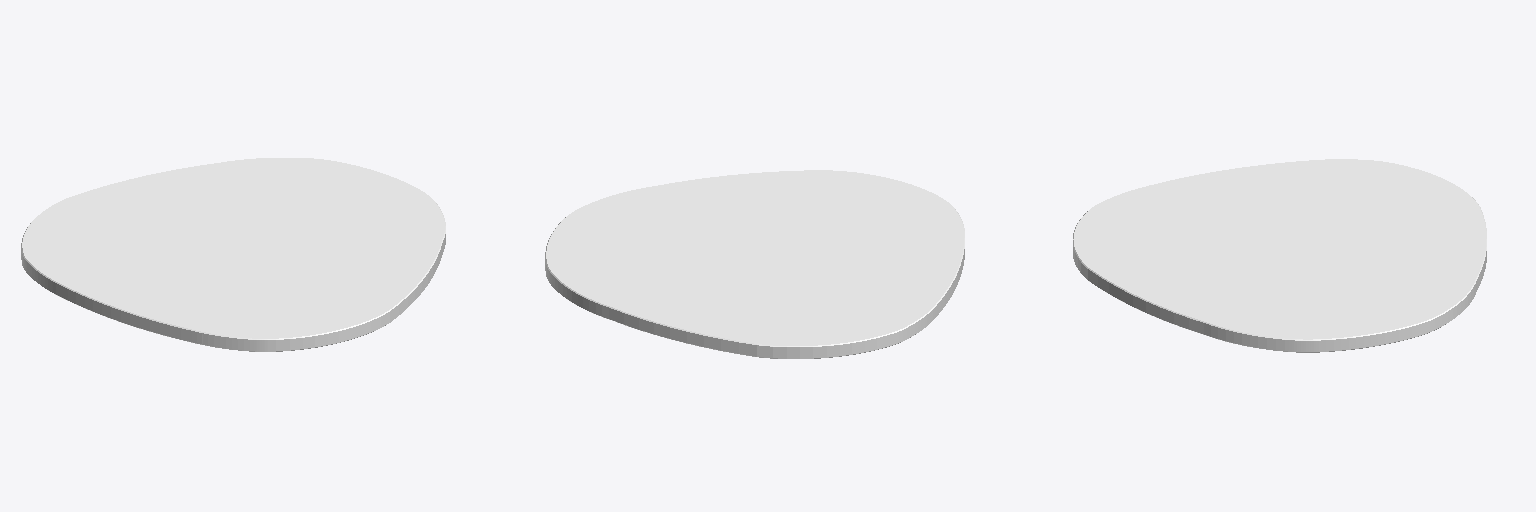
File: seat.obj
3 renders of one model, left to right at view 1: azimuth 30°, elevation 25°; view 2: azimuth 150°, elevation 25°; view 3: azimuth 270°, elevation 25°, orthographic.
Visible parts, largest first — view 1: seat; view 2: seat; view 3: seat.
Part boxes in pixels (x1,y1,x2,y2): seat: (21,158,445,351); seat: (545,170,964,358); seat: (1073,159,1486,352).
Size of the model in its own units: 17.32 by 0.5905 by 16.76.